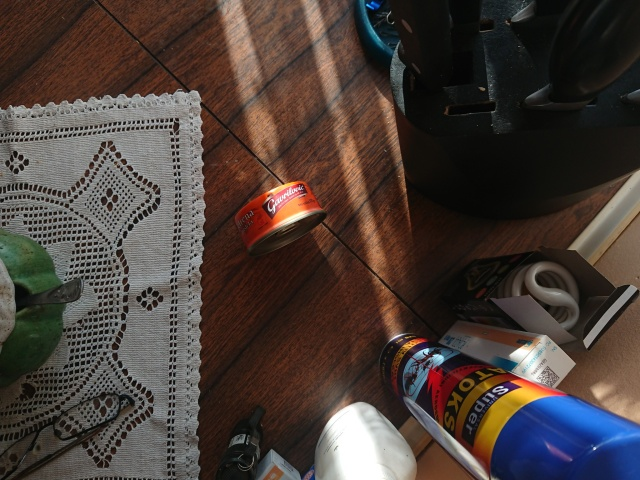Gavrilovic Pork Liver Pate 100g: (231, 177, 329, 259)
